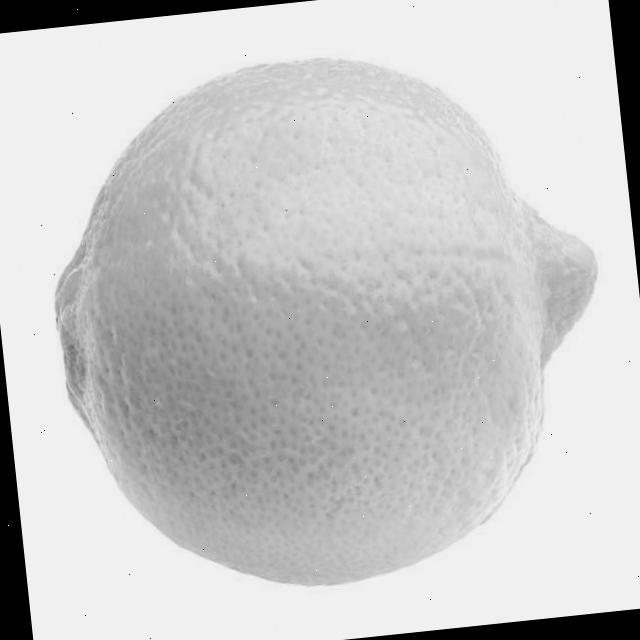Ripe: (23, 20, 630, 613)
